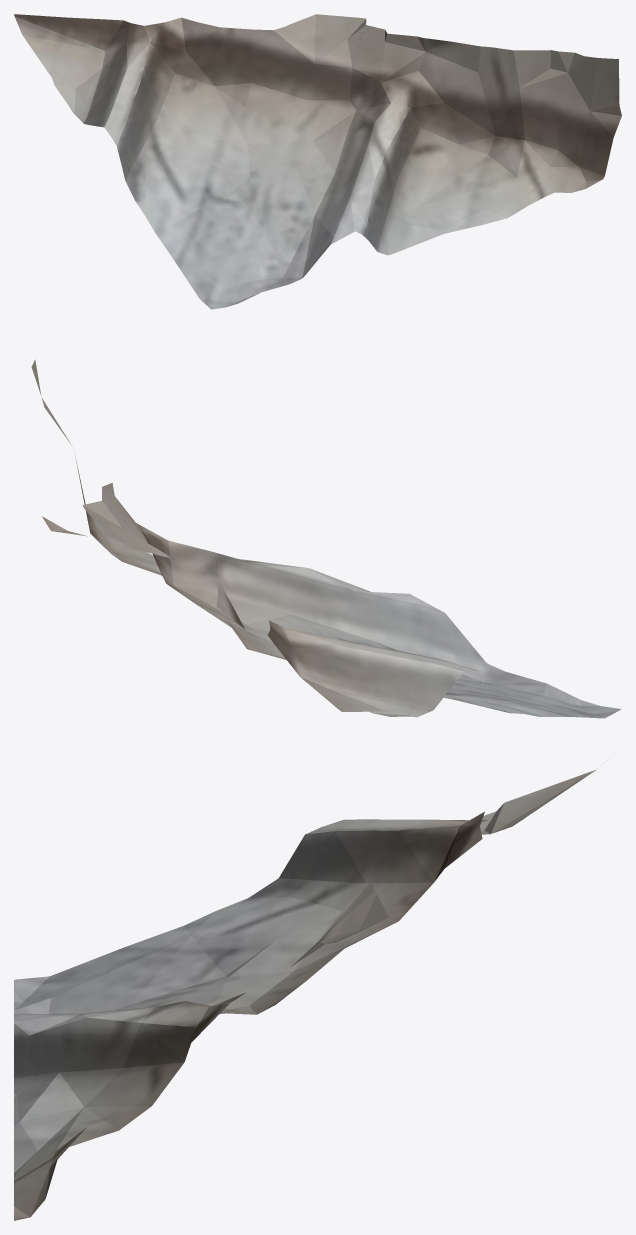
3 views of the same model, one above another, from view 1: azimuth 30°, elevation 25°; view 2: azimuth 150°, elevation 25°; view 3: azimuth 270°, elevation 25° (orthographic). The views are drawn at different scales.
Bounding box in the file's own units: 0.4554 × 0.162 × 0.3788.
Materials: 1 (1 with a texture image).
